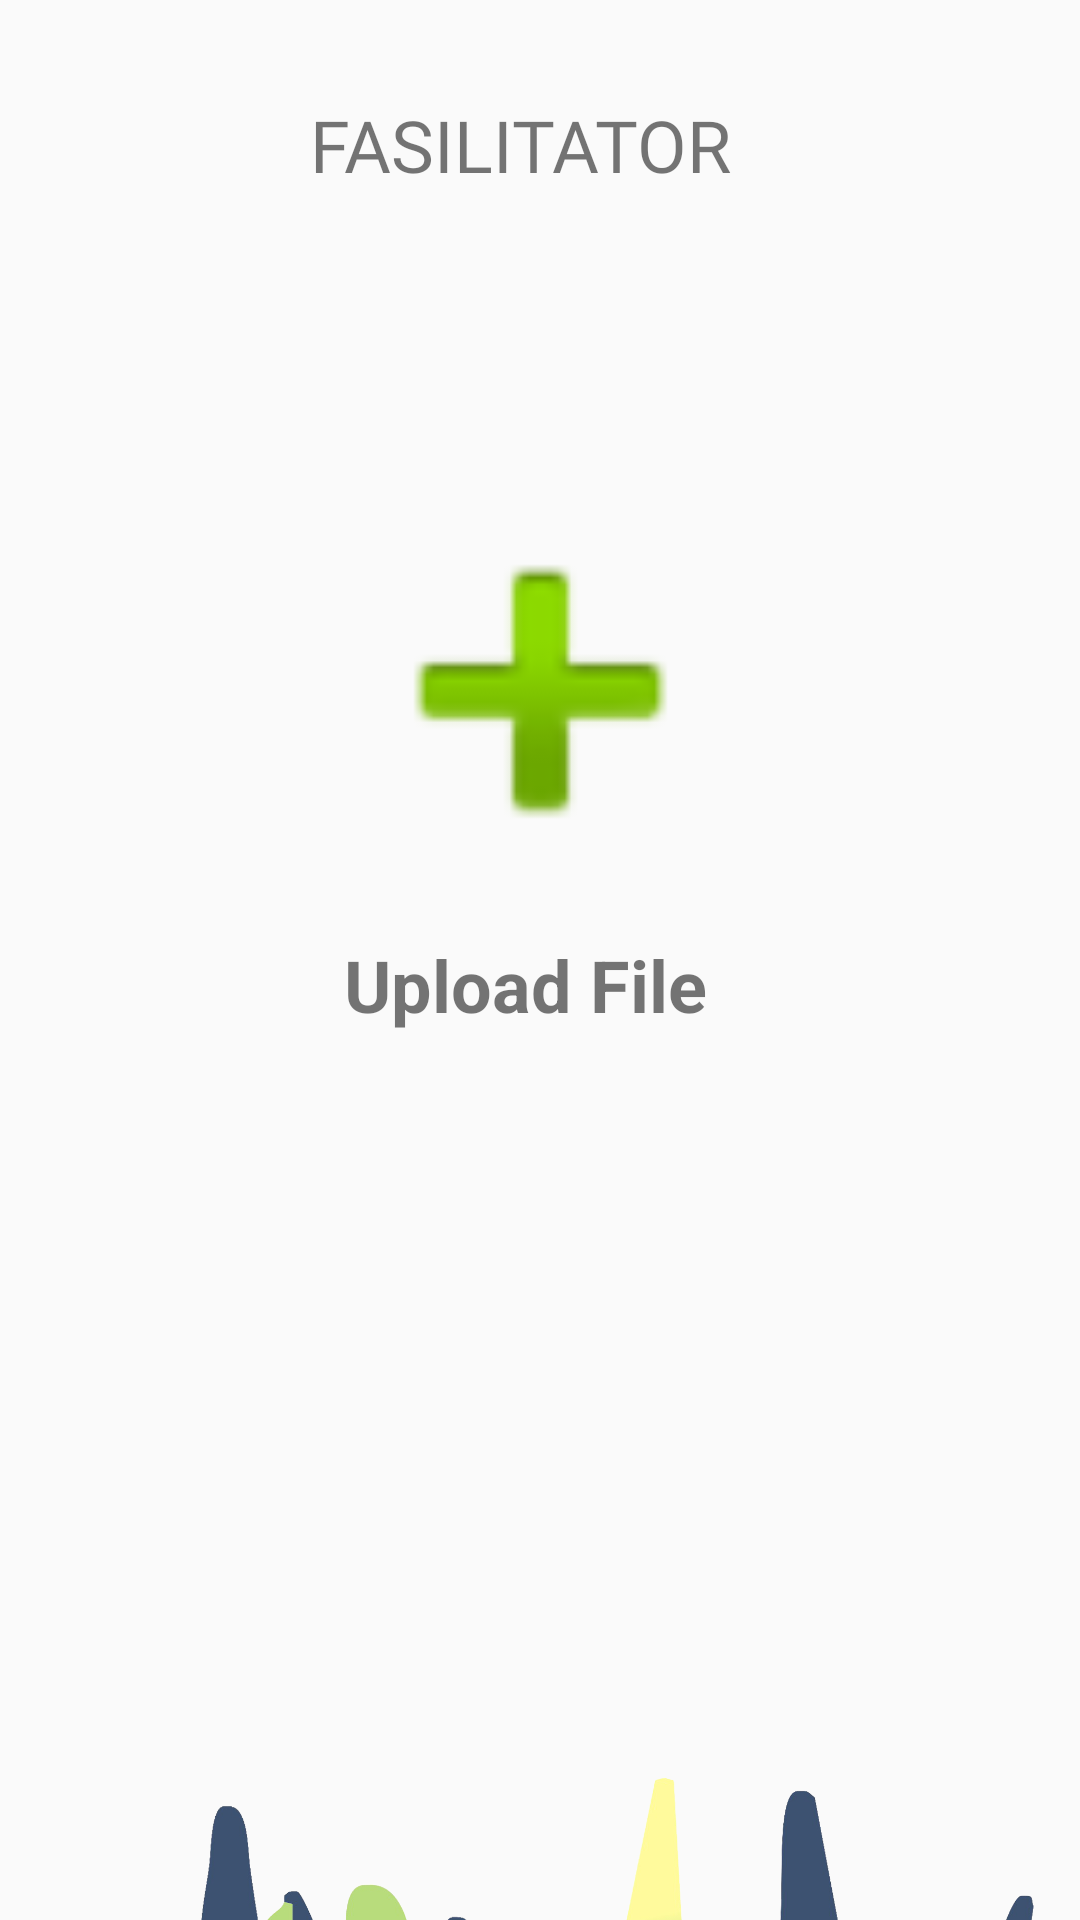

Point at icon controls on the screen. Image size 1080w x 1920h, points as [x,y].
add: [540,691]
